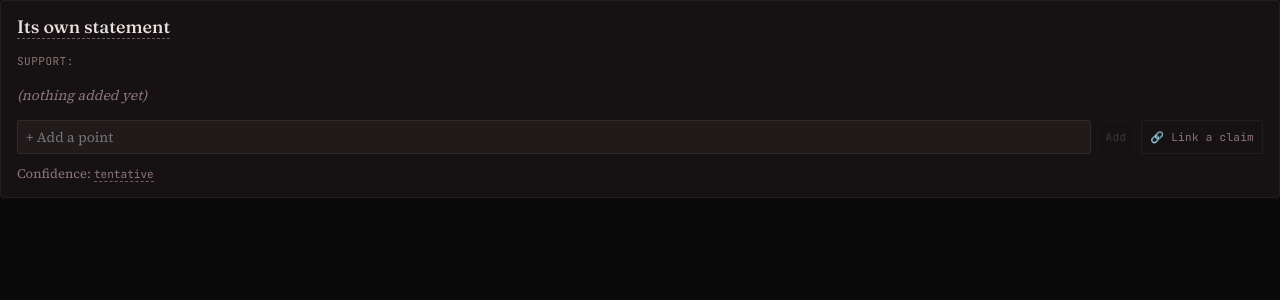
Test: WorkBlock: linked support points › excludes this same block from its own link candidates
The width and height of the screenshot is (1280, 300).
Click the button "🔗 Link a claim".
click(1202, 138)  # box [1141,120,1263,154]
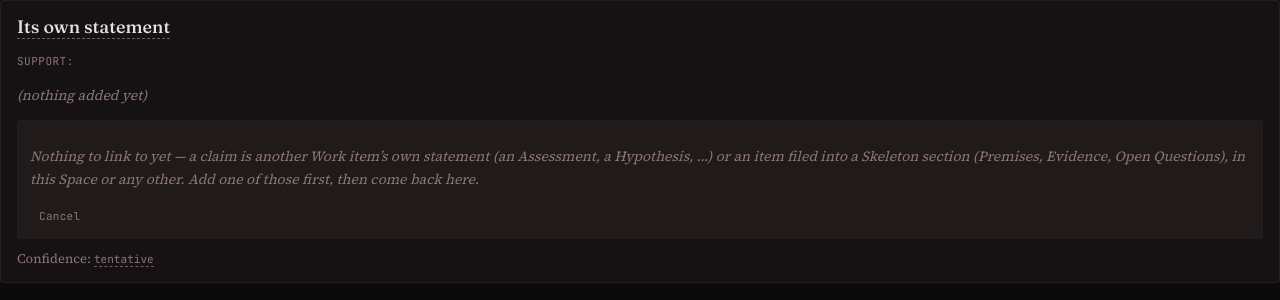
Expected: the text "Nothing to link to yet" is shown, [30,146,1245,189]
